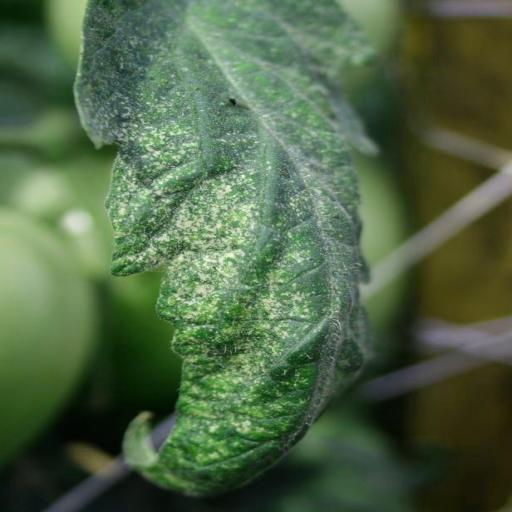disease_tomato: (69, 0, 385, 501)
